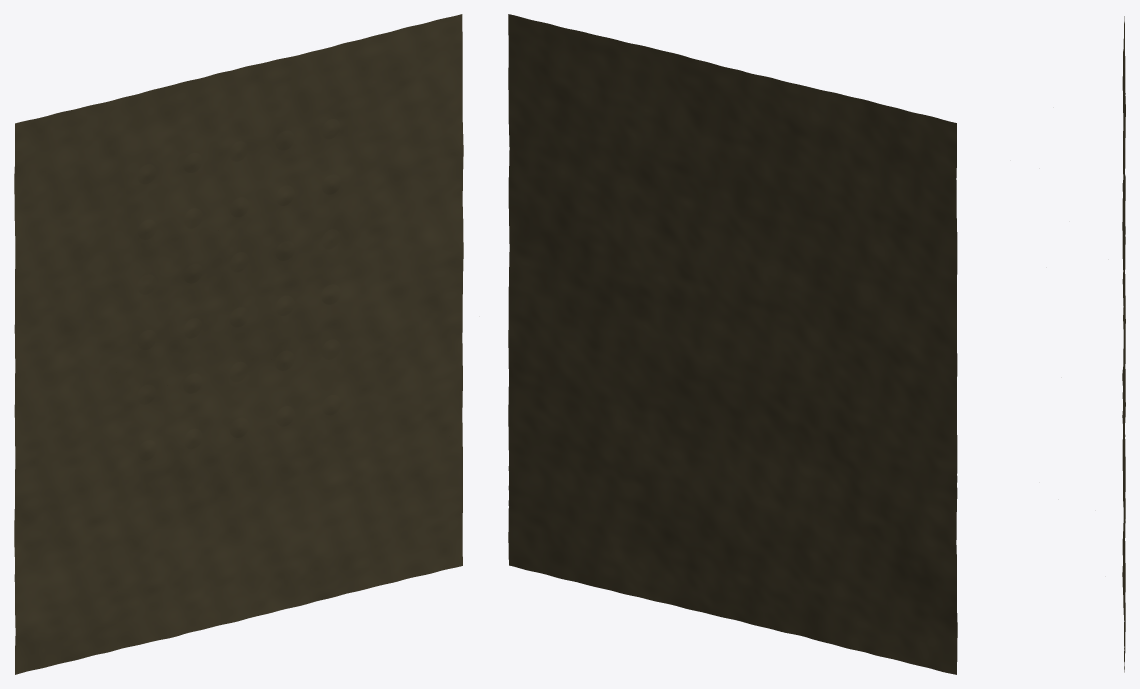
Rendered from sand.obj.
3 renders of one model, left to right at view 1: azimuth 30°, elevation 25°; view 2: azimuth 150°, elevation 25°; view 3: azimuth 270°, elevation 25°, orthographic. The views are drawn at different scales.
Parts seen in each view (by area): view 1: sand; view 2: sand; view 3: sand.
Part boxes in pixels (<box>): sand: <box>14,14,463,674</box>; sand: <box>508,14,957,674</box>; sand: <box>1122,16,1125,672</box>.
Size of the model in its own units: 34 by 40 by 9.03.
